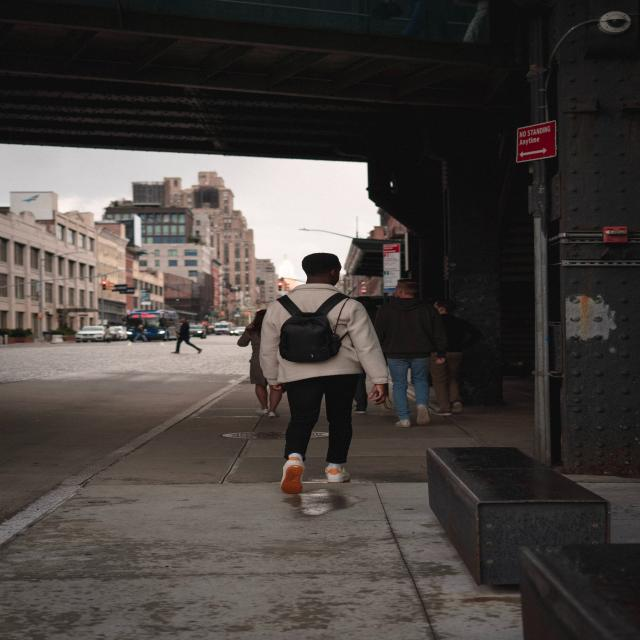backpack: (265, 286, 352, 367)
